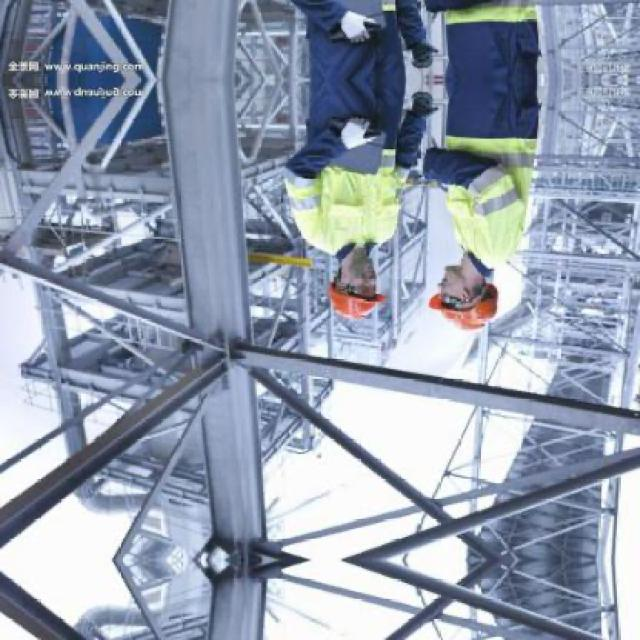con casco: (297, 216, 403, 324), (432, 252, 506, 324)
